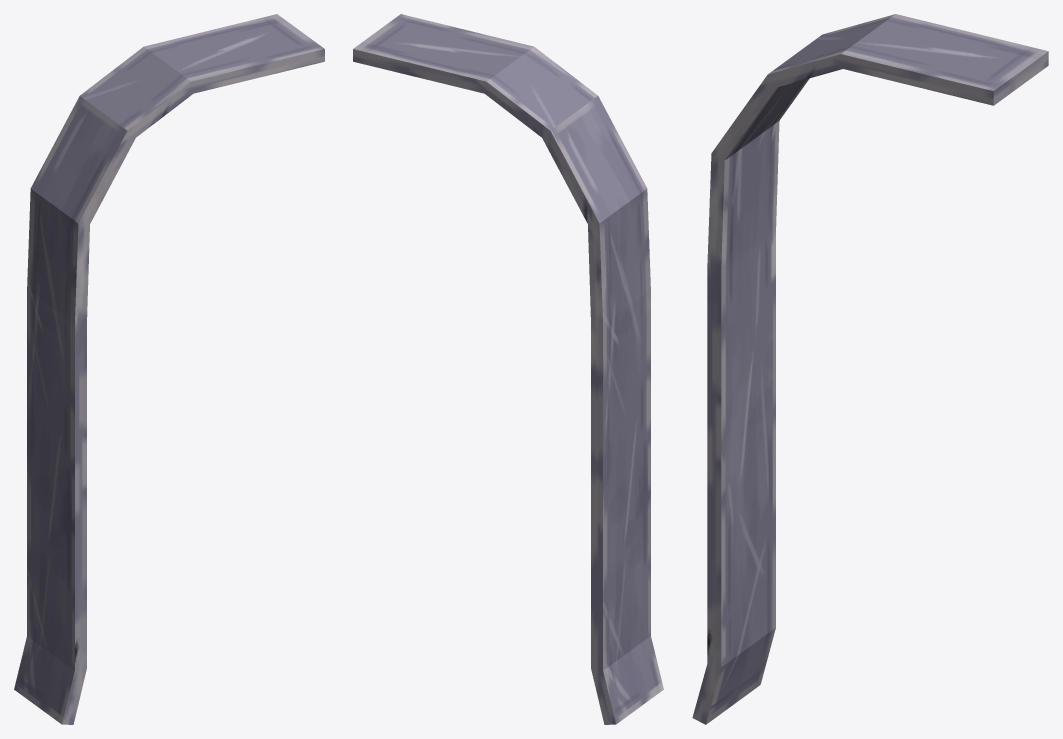
The model's file is smoke_lever.fbx.
3 renders of one model, left to right at view 1: azimuth 30°, elevation 25°; view 2: azimuth 150°, elevation 25°; view 3: azimuth 330°, elevation 25°, orthographic. The views are drawn at different scales.
Parts seen in each view (by area): view 1: smoke_lever; view 2: smoke_lever; view 3: smoke_lever.
Boxes of the visible parts, x1=… form: smoke_lever: x1=14, y1=14, x2=324, y2=724; smoke_lever: x1=353, y1=14, x2=663, y2=724; smoke_lever: x1=692, y1=14, x2=1048, y2=724.
Size of the model in its own units: 0.1787 by 0.3989 by 0.0563.
